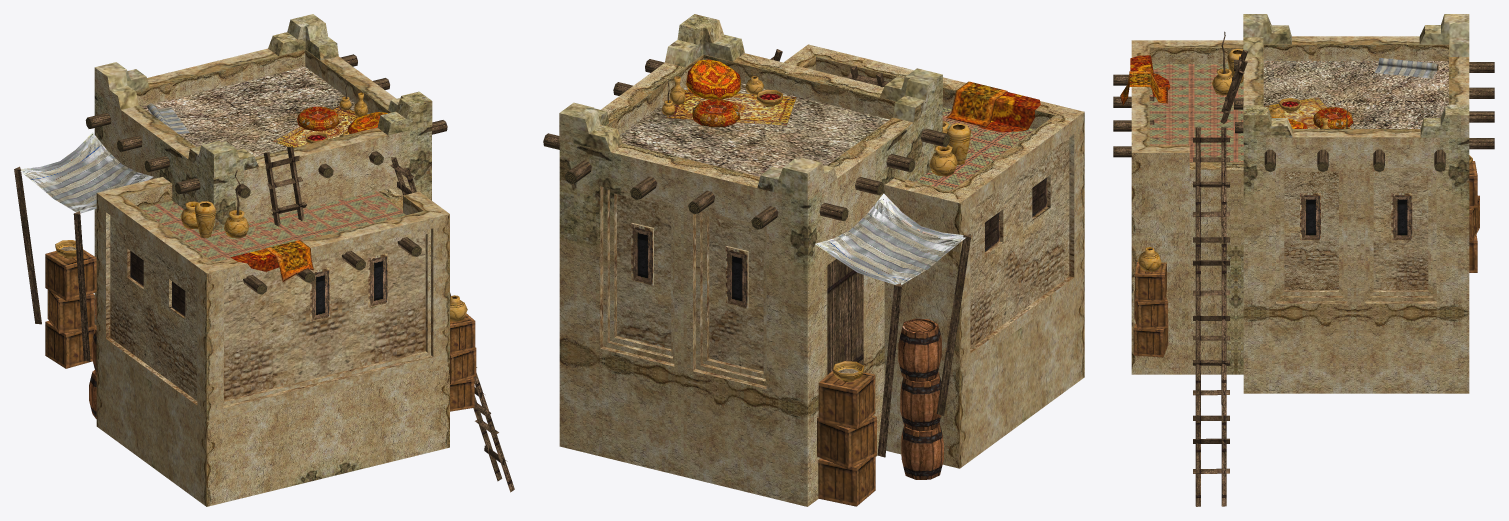
The model's file is pers_house_a.glb.
The picture shows the model from 3 angles, left to right: view 1: azimuth 30°, elevation 25°; view 2: azimuth 150°, elevation 25°; view 3: azimuth 270°, elevation 25°; orthographic projection. The views are drawn at different scales.
Size of the model in its own units: 16.59 by 17.01 by 16.05.
1 material, 1 textured.
